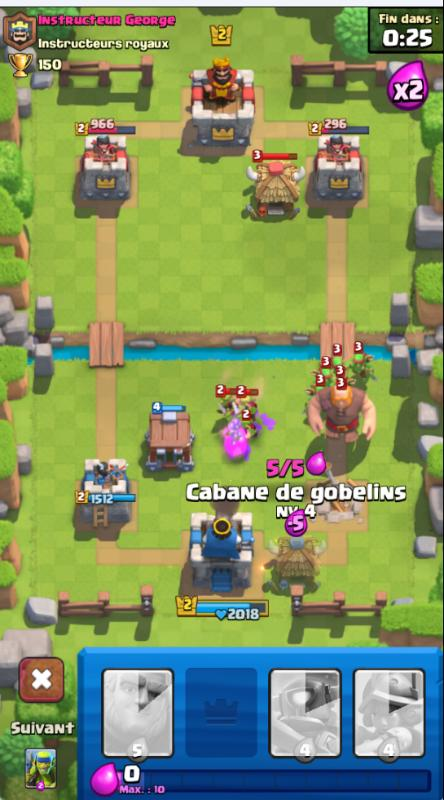gobelin: (305, 381, 378, 444), (232, 412, 262, 445), (216, 382, 239, 425), (239, 384, 265, 420)
gobelin_lances: (350, 347, 374, 384), (315, 358, 335, 388), (332, 349, 349, 378)
